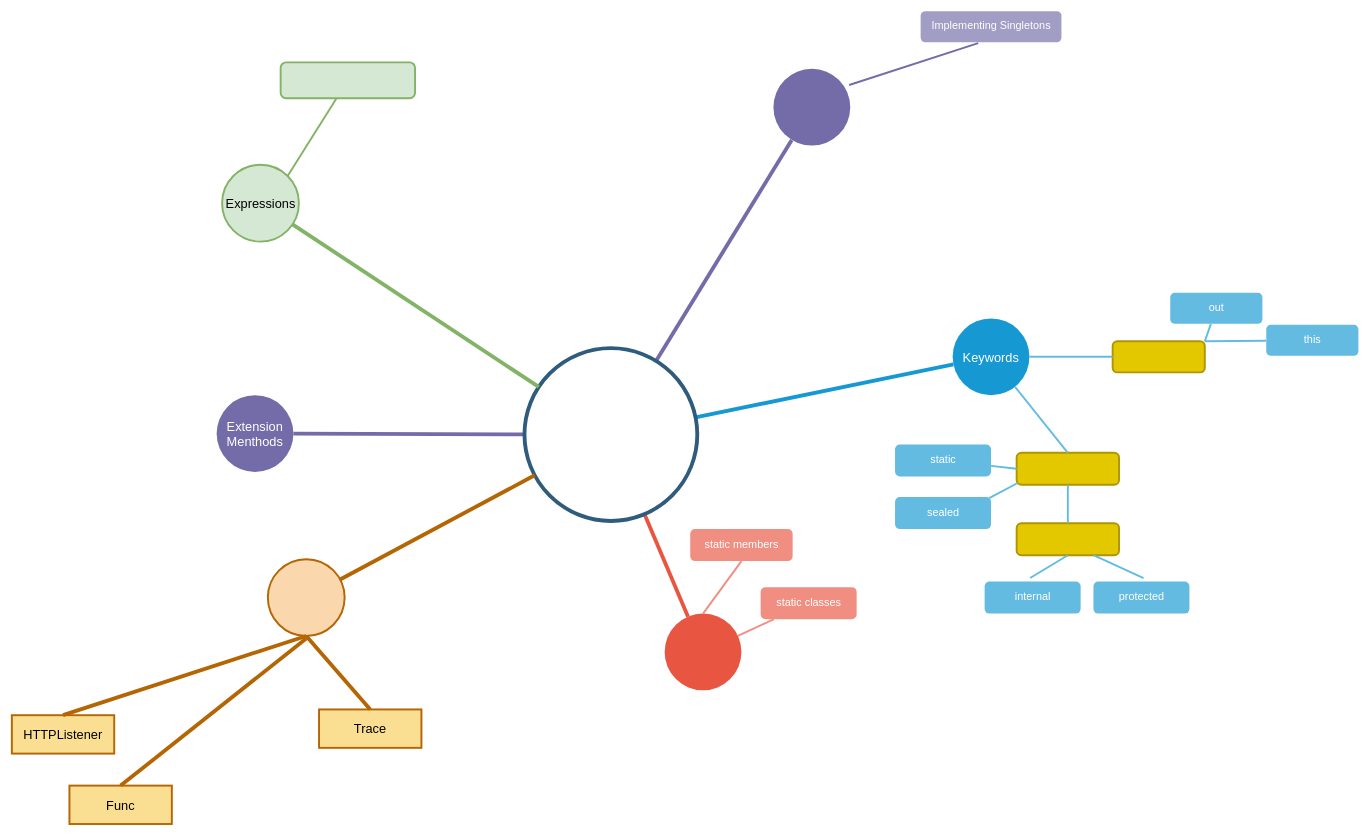
Some shapes in this 1370 by 836 pixel diagram are drawn without their labels. The centre of each missing label's shape, as x and y in pixels:
".NET" goes at point (306, 597).
"Access Modifiers" goes at point (1067, 539).
"C#" goes at point (610, 434).
"Classes" goes at point (702, 651).
"Enterprise Solution Patterns" goes at point (811, 106).
"identifiers" goes at point (1158, 356).
"Lambda Expressions" goes at point (347, 80).
"Modifiers" goes at point (1067, 468).
